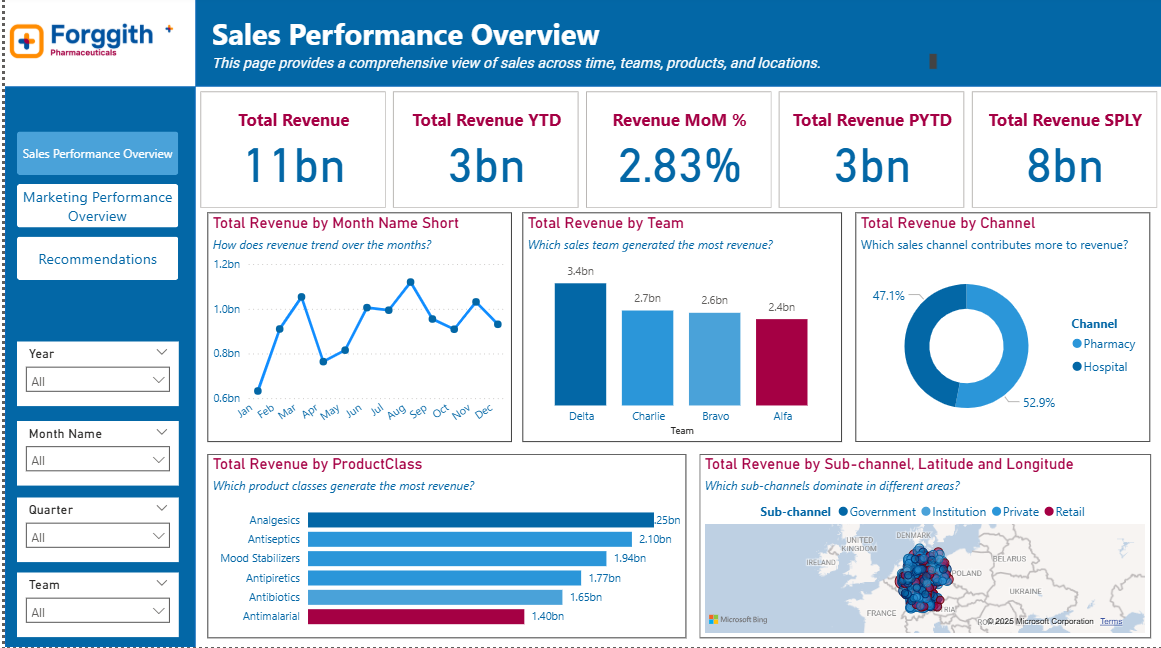

The page's visual inventory and layout, read from the dashboard file:
{"tool":"powerbi","page":{"name":"Sales Performance Overview","canvas":[1280,720],"ordinal":0},"visuals":[{"type":"cardVisual","fields":{"Data":["_Measures.Total Revenue","_Measures.Total Revenue YTD","_Measures.Revenue MoM %","_Measures.Total Revenue PYTD","_Measures.Total Revenue SPLY"]},"box":[210.4,101,1070.1,139.1],"z":0},{"type":"lineChart","fields":{"Y":["_Measures.Total Revenue"],"Category":["Date.Month Name Short"]},"box":[223.6,240.2,336.3,253.4],"z":1000},{"type":"donutChart","fields":{"Category":["Channels.Channel"],"Y":["_Measures.Total Revenue"]},"box":[940,240,325,253.3],"z":2000},{"type":"image","box":[0,0,192.2,87.8],"z":3000},{"type":"shape","box":[210.4,0,1070.1,101],"z":4000},{"type":"map","fields":{"Y":["DimLocation.Latitude"],"X":["DimLocation.Longitude"],"Size":["_Measures.Total Revenue"],"Series":["Channels.Sub-channel"]},"box":[766.7,506.7,498.3,203.3],"z":5000},{"type":"barChart","fields":{"Y":["_Measures.Total Revenue"],"Category":["DimProducts.ProductClass"]},"box":[223.3,506.7,528.3,203.3],"z":6000},{"type":"shape","box":[0,101,210.4,619.5],"z":7000},{"type":"textbox","box":[223.6,14.9,442.3,59.6],"z":8000},{"type":"textbox","box":[223.6,59.6,810,28.2],"z":9000},{"type":"slicer","fields":{"Values":["Date.Month Name"]},"box":[13.3,470.4,178.9,71.2],"z":10000},{"type":"slicer","fields":{"Values":["Date.Quarter"]},"box":[13.3,554.9,178.9,71.2],"z":11000},{"type":"slicer","fields":{"Values":["DimEmployees.Team"]},"box":[13.3,637.7,178.9,71.2],"z":12000},{"type":"slicer","fields":{"Values":["Date.Year"]},"box":[13.3,382.6,178.9,71.2],"z":13000},{"type":"columnChart","fields":{"Category":["DimEmployees.Team"],"Y":["_Measures.Total Revenue"]},"box":[571.5,240.2,352.8,253.4],"z":14000},{"type":"pageNavigator","box":[13.3,150,178.3,166.7],"z":15000}]}

Visuals, with their boxes on the page's 1280x720 design canvas (x1, y1, x2, y2). These are canvas units, not pixel positions in the 1161x648 screenshot, which may show the page scaled, cropped or inside an application window:
cardVisual - _Measures.Total Revenue x _Measures.Total Revenue YTD: (210, 101, 1280, 240)
lineChart - _Measures.Total Revenue x Date.Month Name Short: (224, 240, 560, 494)
donutChart - Channels.Channel x _Measures.Total Revenue: (940, 240, 1265, 493)
image: (0, 0, 192, 88)
shape: (210, 0, 1280, 101)
map - DimLocation.Latitude x DimLocation.Longitude: (767, 507, 1265, 710)
barChart - _Measures.Total Revenue x DimProducts.ProductClass: (223, 507, 752, 710)
shape: (0, 101, 210, 720)
textbox: (224, 15, 666, 74)
textbox: (224, 60, 1034, 88)
slicer - Date.Month Name: (13, 470, 192, 542)
slicer - Date.Quarter: (13, 555, 192, 626)
slicer - DimEmployees.Team: (13, 638, 192, 709)
slicer - Date.Year: (13, 383, 192, 454)
columnChart - DimEmployees.Team x _Measures.Total Revenue: (572, 240, 924, 494)
pageNavigator: (13, 150, 192, 317)
